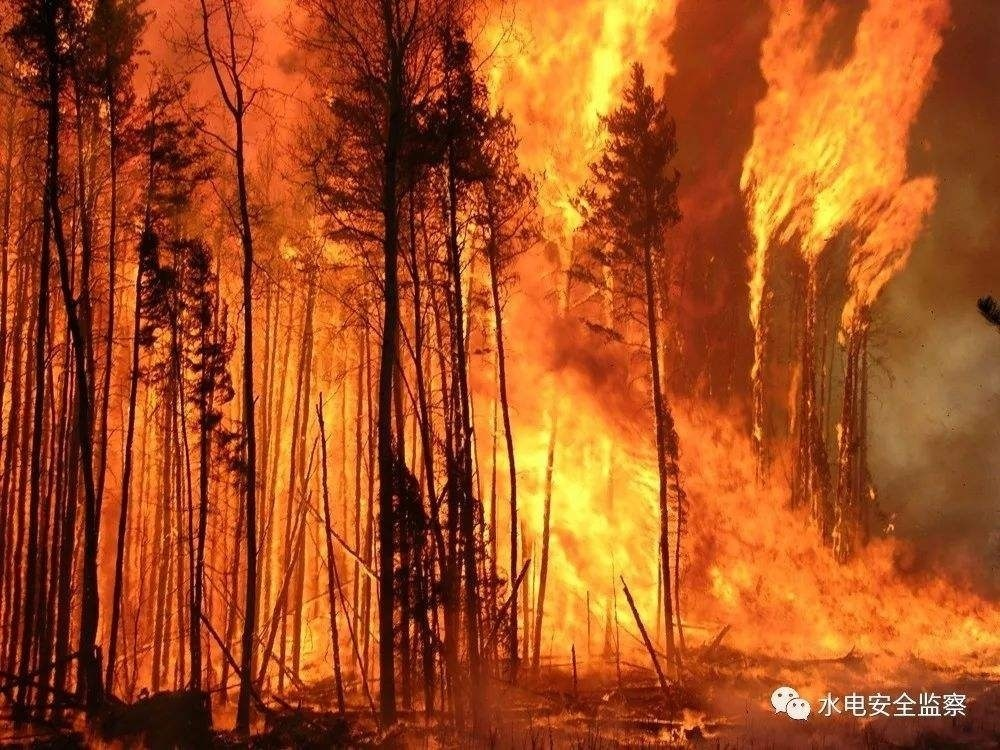fire: (91, 43, 966, 652)
